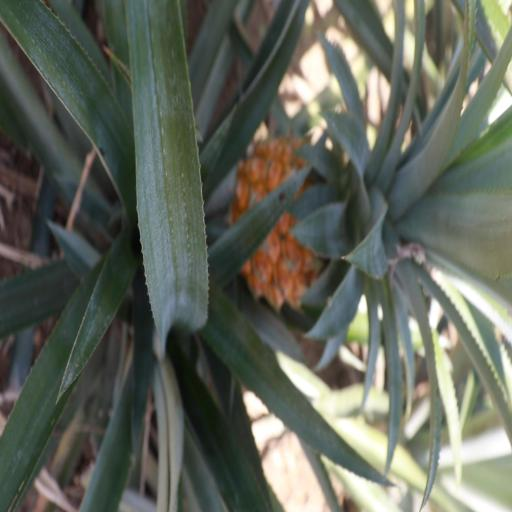Pineapple - v8 v1: (239, 125, 512, 301)
